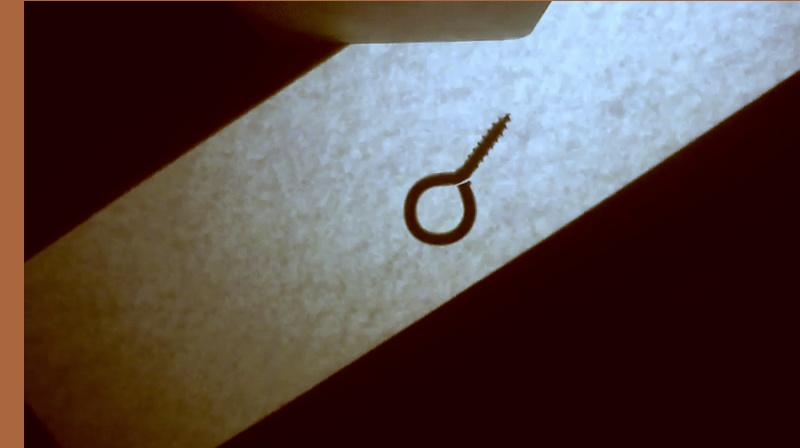O001: (400, 108, 514, 246)
